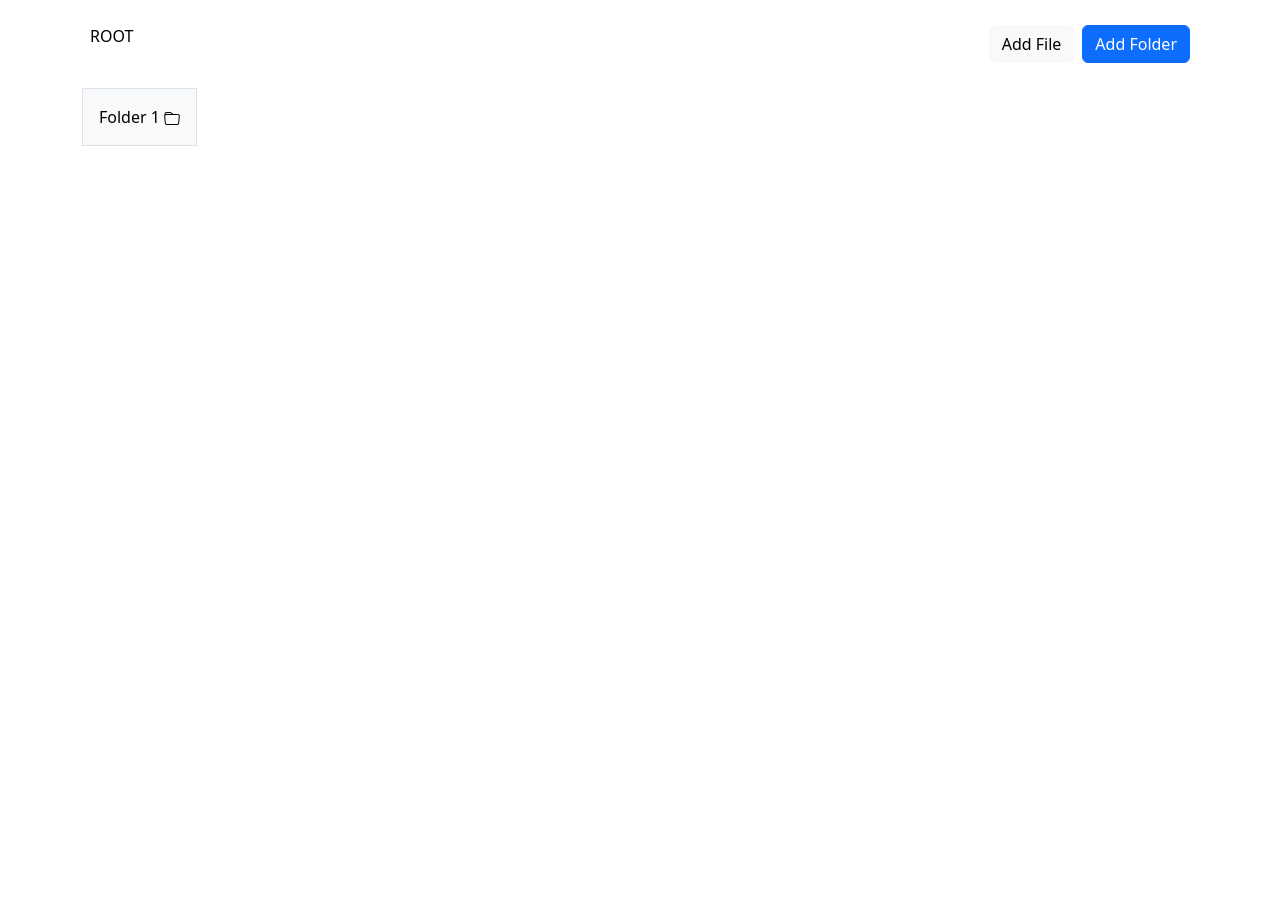
Test: opens "Add A Folder" popup when clicks on Add folder Button
Click the button with test id "add-folder": (1136, 44) [1082,25,1190,63]
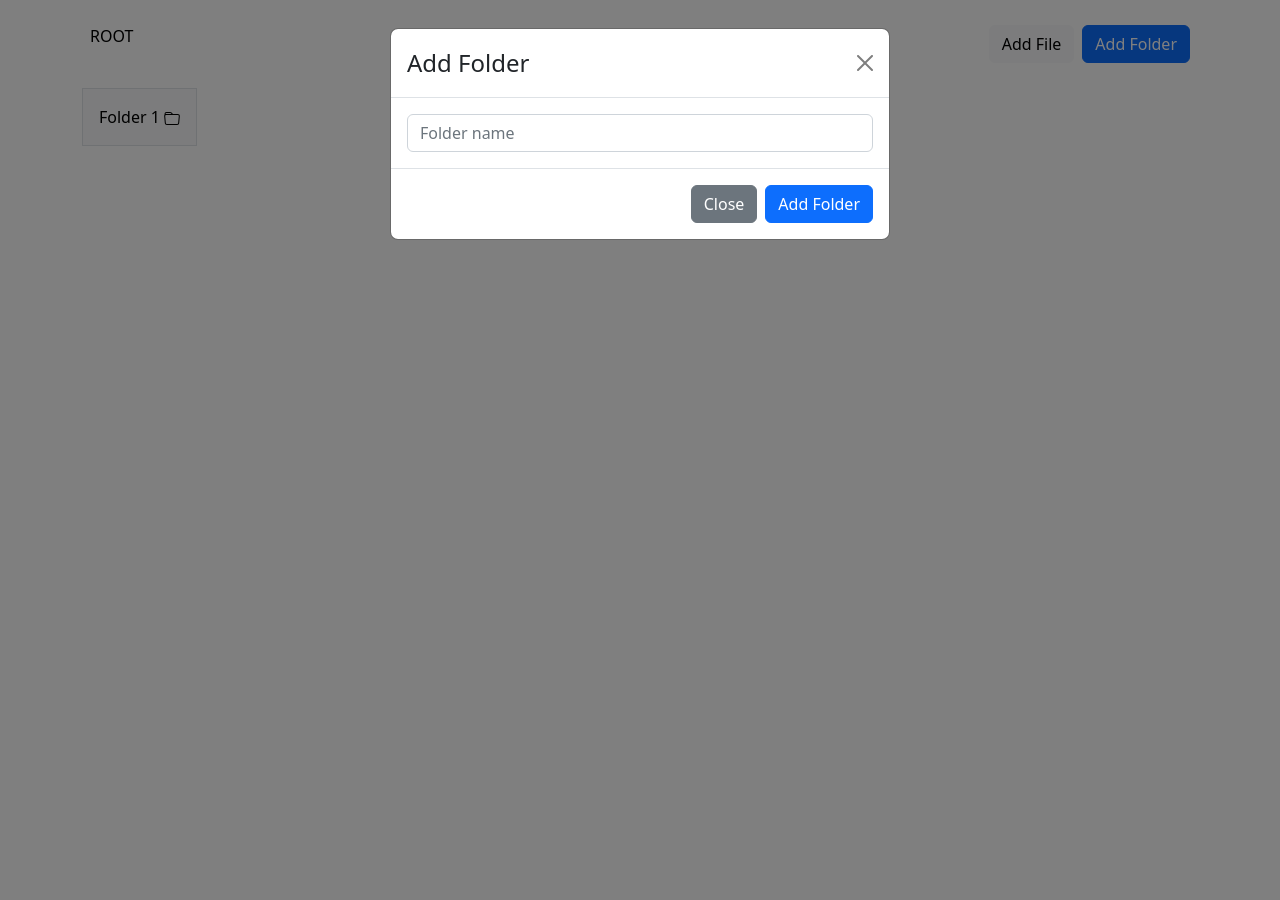
Now the element with test id "add-folder-popup" is shown, box [390,28,890,240]
